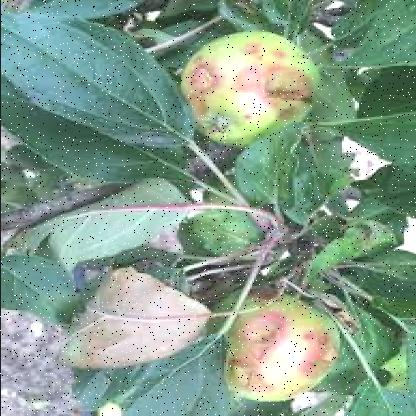damaged_apple: (182, 27, 324, 153), (206, 286, 334, 405)
